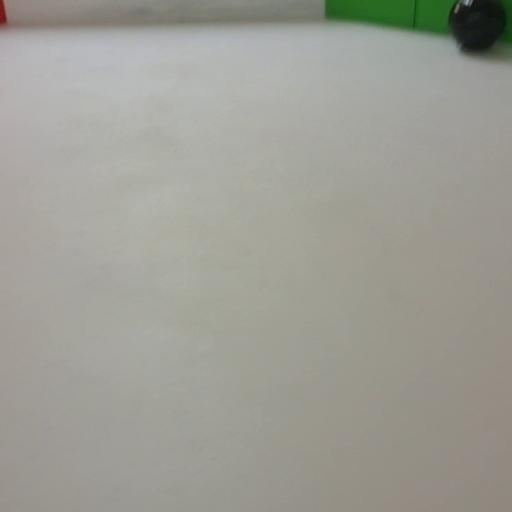dead: (446, 0, 505, 52)
